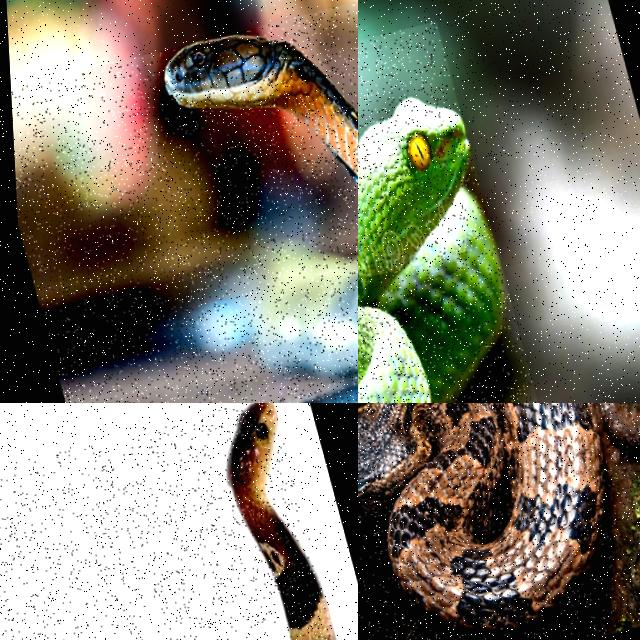Naja kaouthia: (227, 403, 334, 639)
Ophiophagus hannah: (39, 248, 357, 372)
Ovophis monticola: (358, 403, 604, 639)
Trimeresurus macrops: (358, 100, 502, 402)
